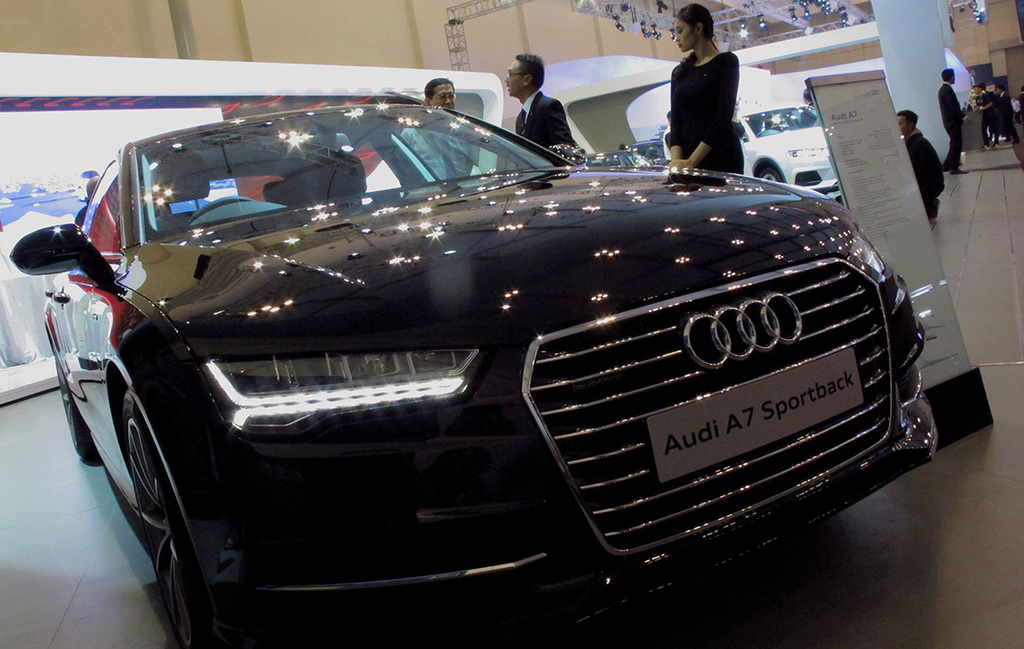person: (895, 109, 946, 229)
